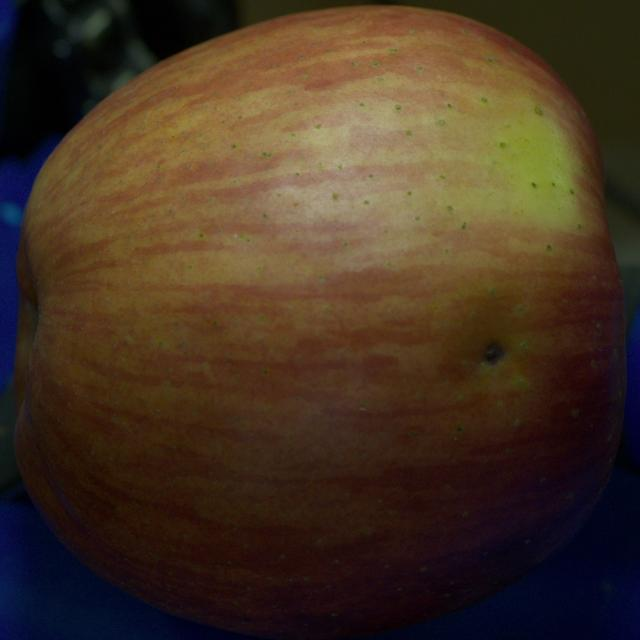apple: (14, 7, 625, 639)
pest: (484, 342, 504, 364)
